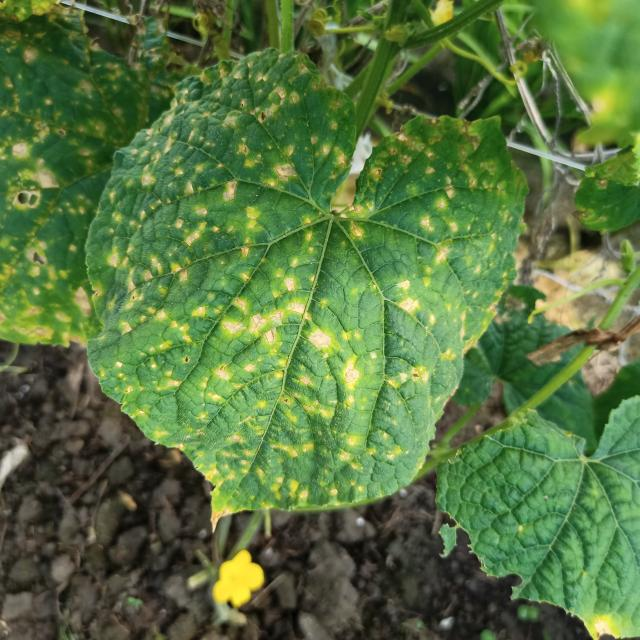disease_cucumber: (90, 49, 521, 508), (0, 11, 150, 349)
